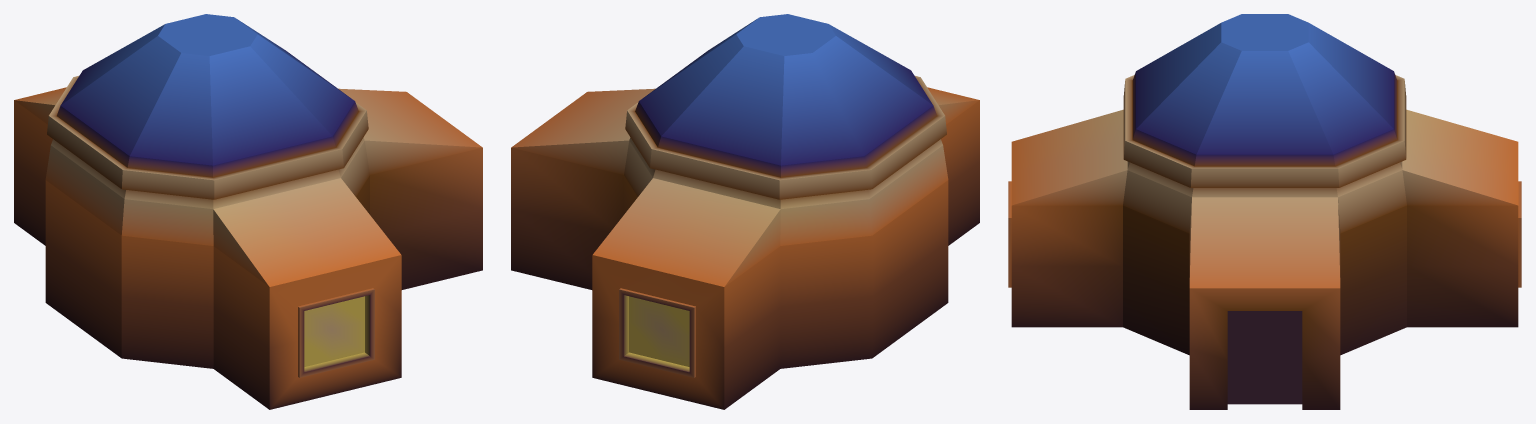
File: Mercona_hut_3.obj
3 views of the same model, side by side, from view 1: azimuth 30°, elevation 25°; view 2: azimuth 150°, elevation 25°; view 3: azimuth 270°, elevation 25° (orthographic).
Visible parts, largest first — view 1: Mercona_hut_3; view 2: Mercona_hut_3; view 3: Mercona_hut_3.
Part boxes in pixels (box(x1,y1,x2,y2)): Mercona_hut_3: box(14, 14, 482, 409); Mercona_hut_3: box(511, 14, 979, 409); Mercona_hut_3: box(1008, 14, 1521, 409).
Size of the model in its own units: 11.42 by 8.02 by 14.19.
